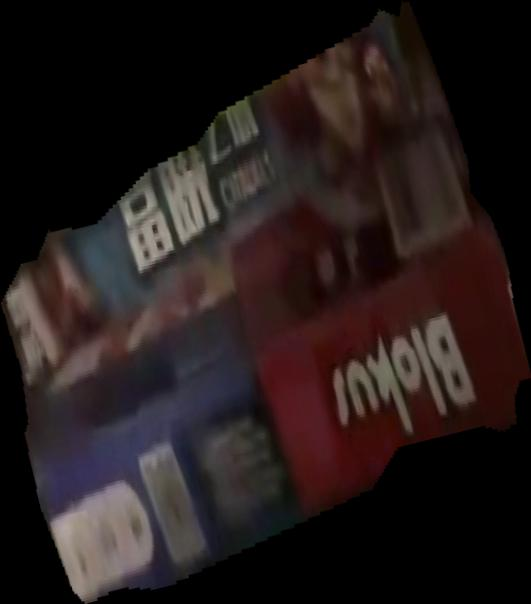flat: (1, 1, 531, 604)
